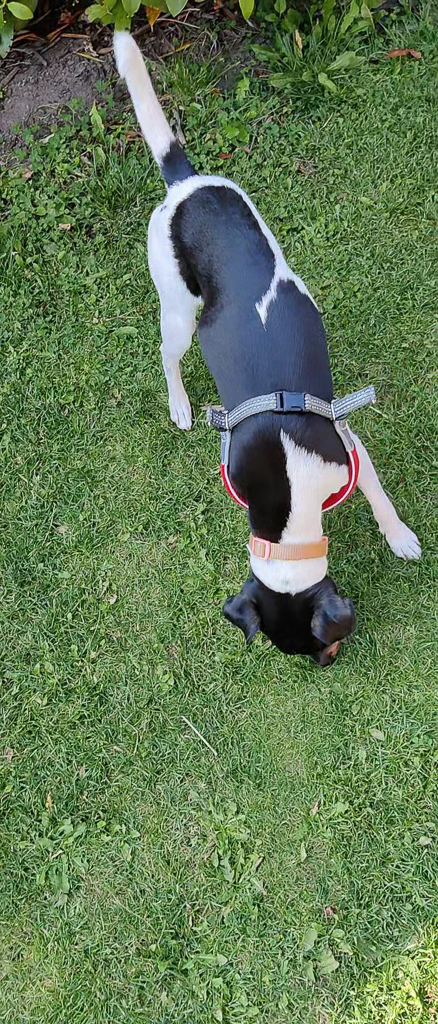Dog: (84, 19, 429, 683)
